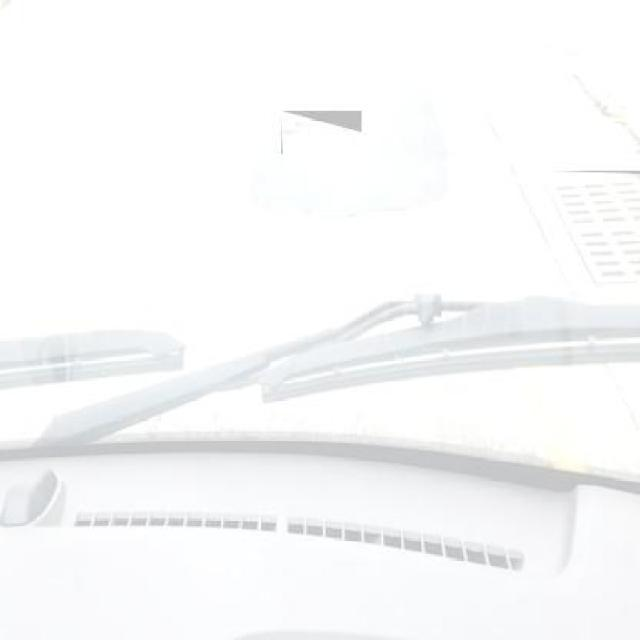Manhole: (537, 170, 640, 284), (280, 111, 362, 154)
